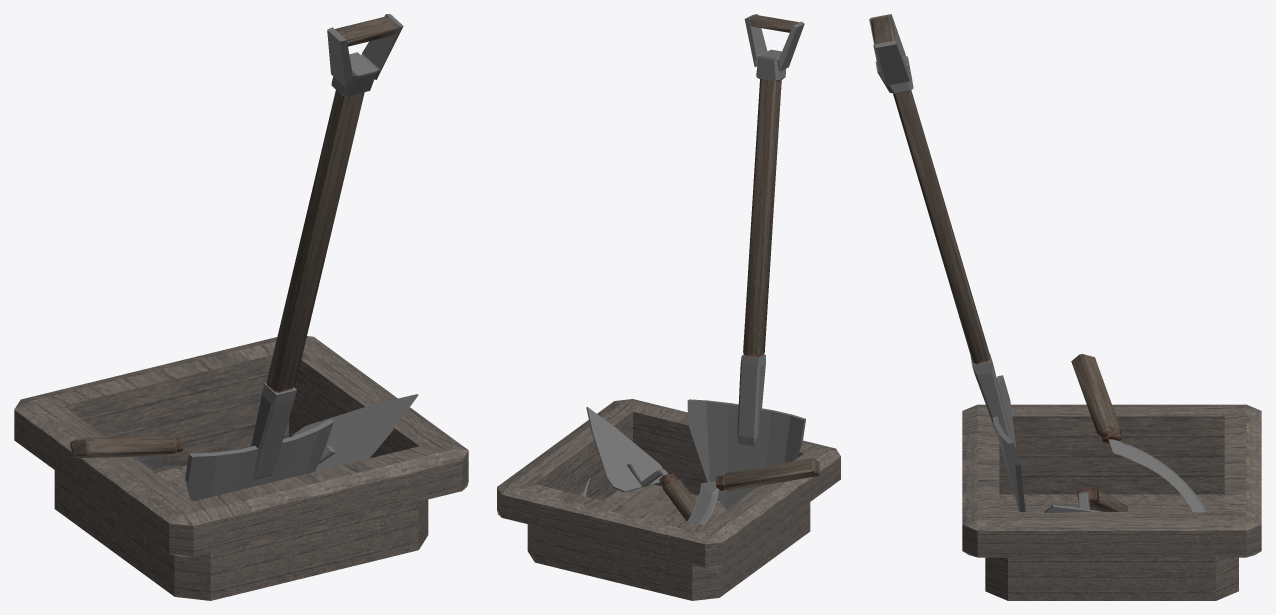
The model's file is tools.fbx.
The picture shows the model from 3 angles, left to right: view 1: azimuth 30°, elevation 25°; view 2: azimuth 150°, elevation 25°; view 3: azimuth 270°, elevation 25°; orthographic projection. The views are drawn at different scales.
Visible parts, largest first — view 1: Cube.004; view 2: Cube.004; view 3: Cube.004.
Boxes of the visible parts, x1,y1,x2,y2 form: Cube.004: (14, 14, 468, 600); Cube.004: (497, 14, 840, 600); Cube.004: (869, 14, 1261, 600).
Bounding box in the file's own units: 360 × 624 × 425.
Materials: 3 (2 with a texture image).
